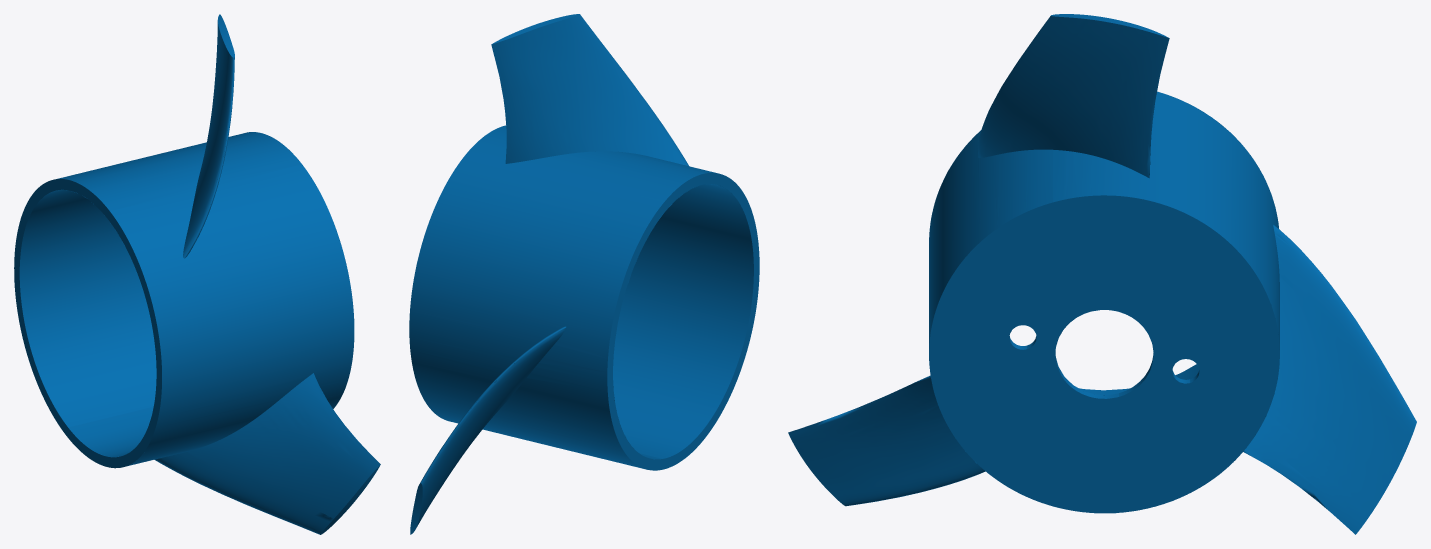
3 renders of one model, left to right at view 1: azimuth 30°, elevation 25°; view 2: azimuth 150°, elevation 25°; view 3: azimuth 270°, elevation 25°, orthographic. The views are drawn at different scales.
Parts seen in each view (by area): view 1: PropCW_ID164; view 2: PropCW_ID164; view 3: PropCW_ID164.
Boxes of the visible parts, x1,y1,x2,y2 form: PropCW_ID164: (14,14,380,534); PropCW_ID164: (409,14,759,534); PropCW_ID164: (788,14,1416,534).
Bounding box in the file's own units: 0.03 × 0.0632 × 0.0717.
